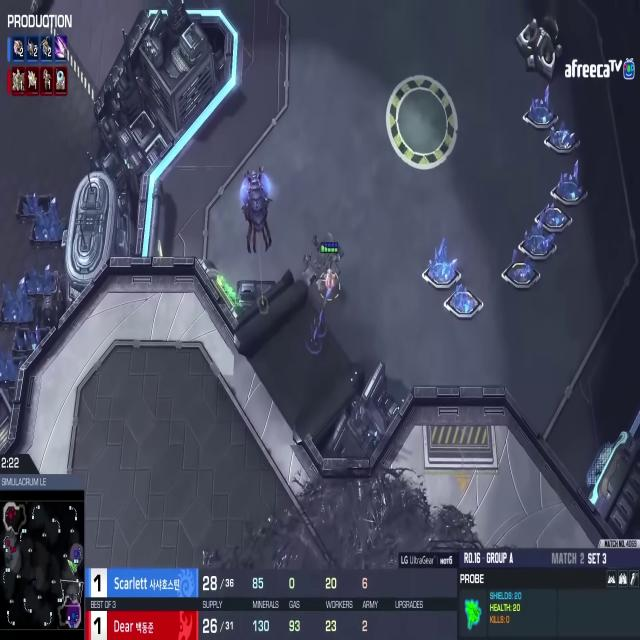overlord: (235, 154, 279, 264)
probe: (318, 260, 342, 299)
zergling: (312, 299, 332, 336), (306, 315, 322, 356)
